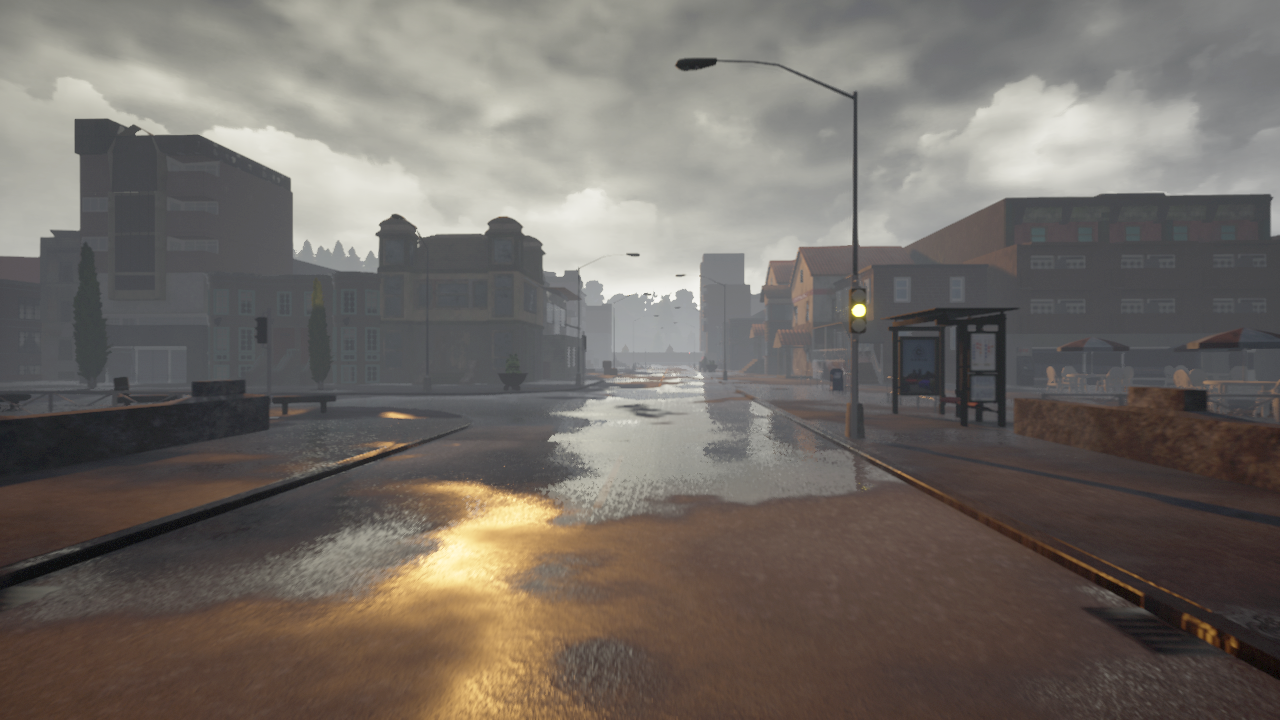yellow: (850, 286, 867, 334)
